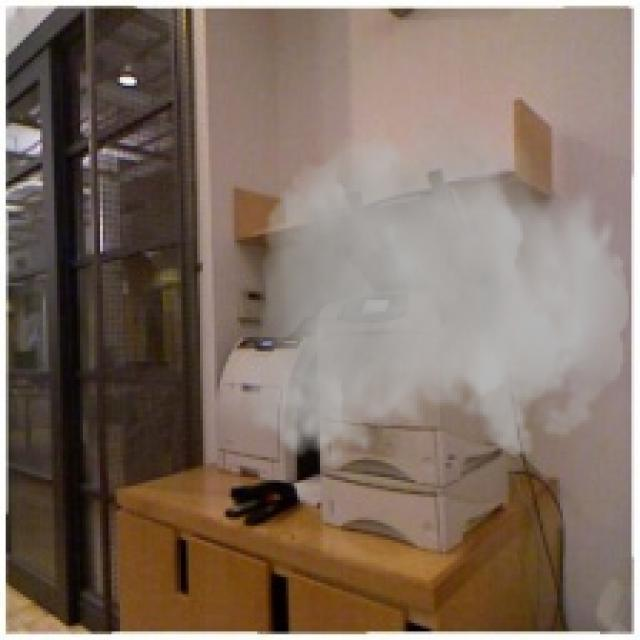Smoke: (246, 86, 628, 468)
